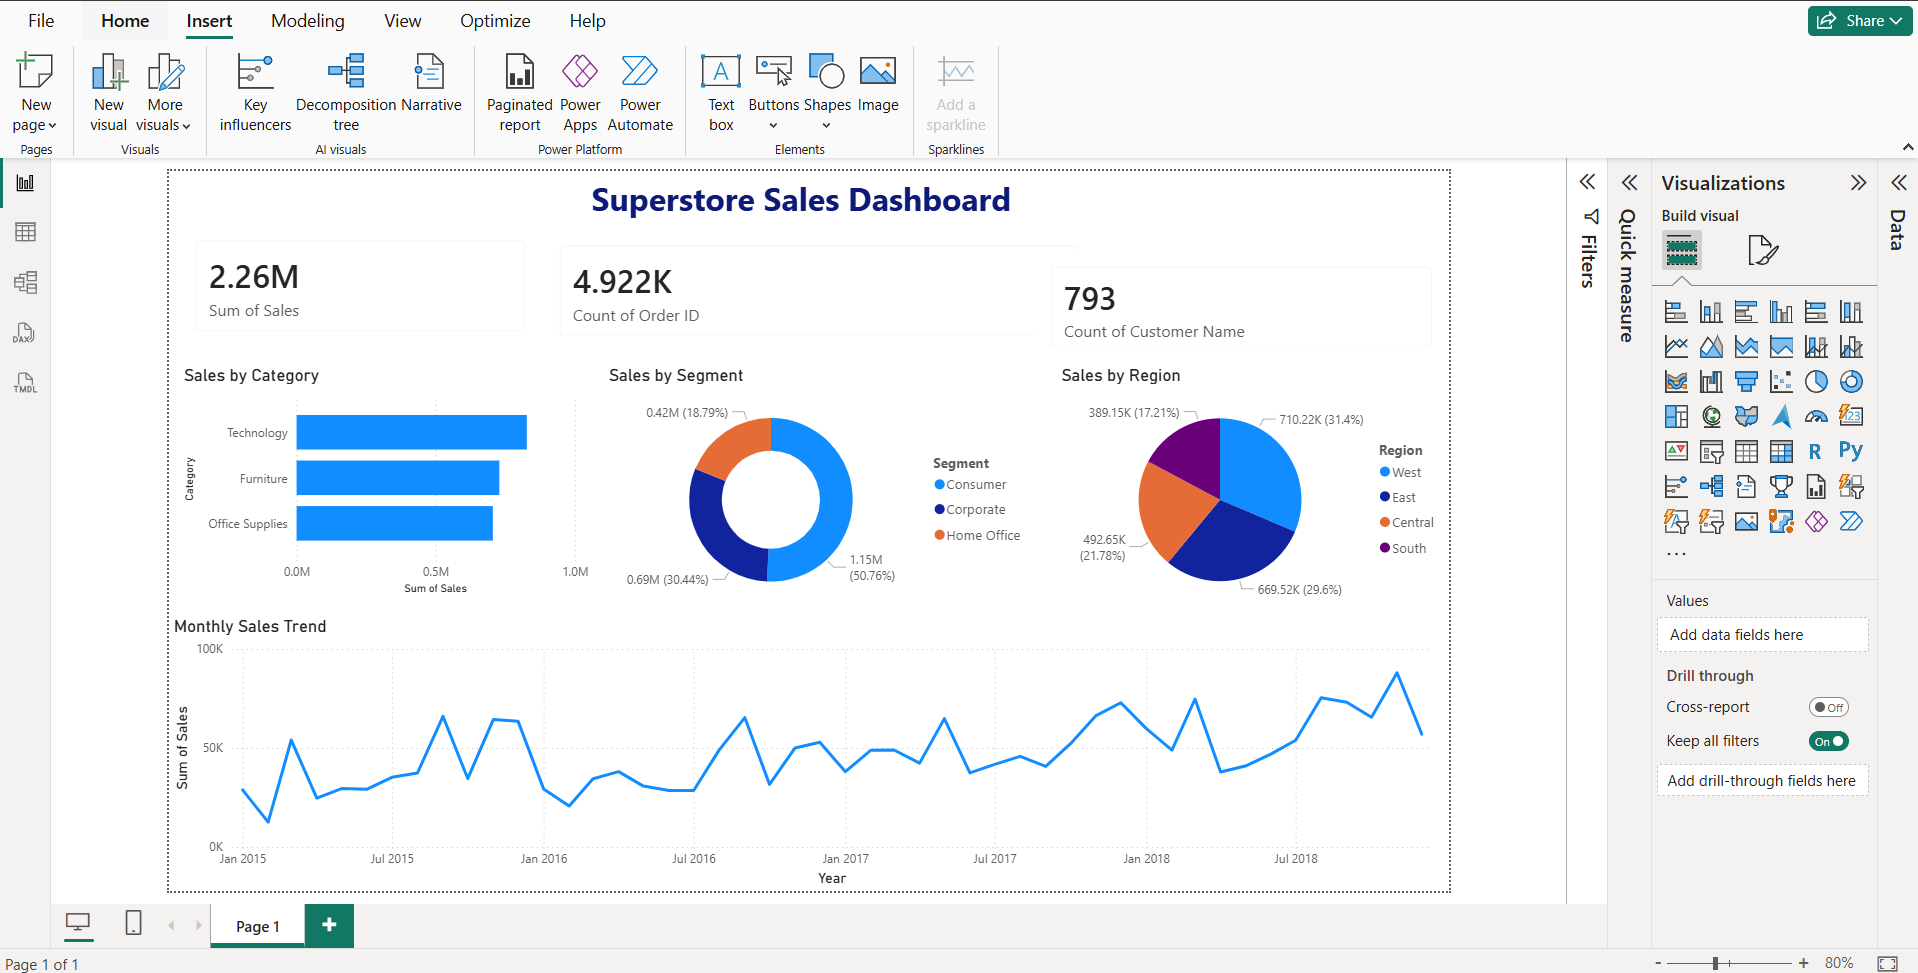

The page's visual inventory and layout, read from the dashboard file:
{"tool":"powerbi","page":{"name":"Page 1","canvas":[1280,720],"ordinal":0},"visuals":[{"type":"cardVisual","fields":{"Data":["Sum(train (2).Sales)"]},"box":[10,52.5,363.8,125],"z":0},{"type":"cardVisual","fields":{"Data":["Count(train (2).Order ID)"]},"box":[373.8,57.5,555,125],"z":1000},{"type":"clusteredBarChart","title":"Sales by Category","fields":{"Category":["train (2).Category"],"Y":["Sum(train (2).Sales)"]},"box":[10,193.8,415,235],"z":2000},{"type":"pieChart","title":"Sales by Region","fields":{"Category":["train (2).Region"],"Y":["Sum(train (2).Sales)"]},"box":[887.5,193.8,392.5,251.2],"z":3000},{"type":"donutChart","title":"Sales by Segment","fields":{"Category":["train (2).Segment"],"Y":["Sum(train (2).Sales)"]},"box":[435,193.8,431.2,251.2],"z":4000},{"type":"cardVisual","fields":{"Data":["Count(train (2).Customer Name)"]},"box":[865,78.8,415,115],"z":5000},{"type":"lineChart","title":"Monthly Sales Trend","fields":{"Y":["Sum(train (2).Sales)"],"Category":["train (2).Order Date.Variation.Date Hierarchy.Year","train (2).Order Date.Variation.Date Hierarchy.Month"]},"box":[0,445,1280,275],"z":6000},{"type":"textbox","box":[417.5,1.2,446.2,56.2],"z":7000}]}

Visuals, with their boxes on the page's 1280x720 design canvas (x1, y1, x2, y2). These are canvas units, not pixel positions in the 1918x973 screenshot, which may show the page scaled, cropped or inside an application window:
cardVisual - Sum(train (2).Sales): select_region(10, 52, 374, 178)
cardVisual - Count(train (2).Order ID): select_region(374, 58, 929, 182)
"Sales by Category" clusteredBarChart: select_region(10, 194, 425, 429)
"Sales by Region" pieChart: select_region(888, 194, 1280, 445)
"Sales by Segment" donutChart: select_region(435, 194, 866, 445)
cardVisual - Count(train (2).Customer Name): select_region(865, 79, 1280, 194)
"Monthly Sales Trend" lineChart: select_region(0, 445, 1280, 720)
textbox: select_region(418, 1, 864, 57)
